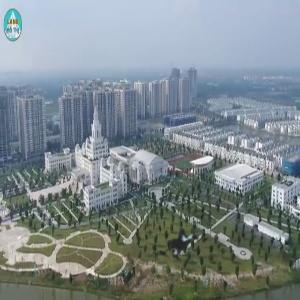drone: (139, 204, 221, 286)
